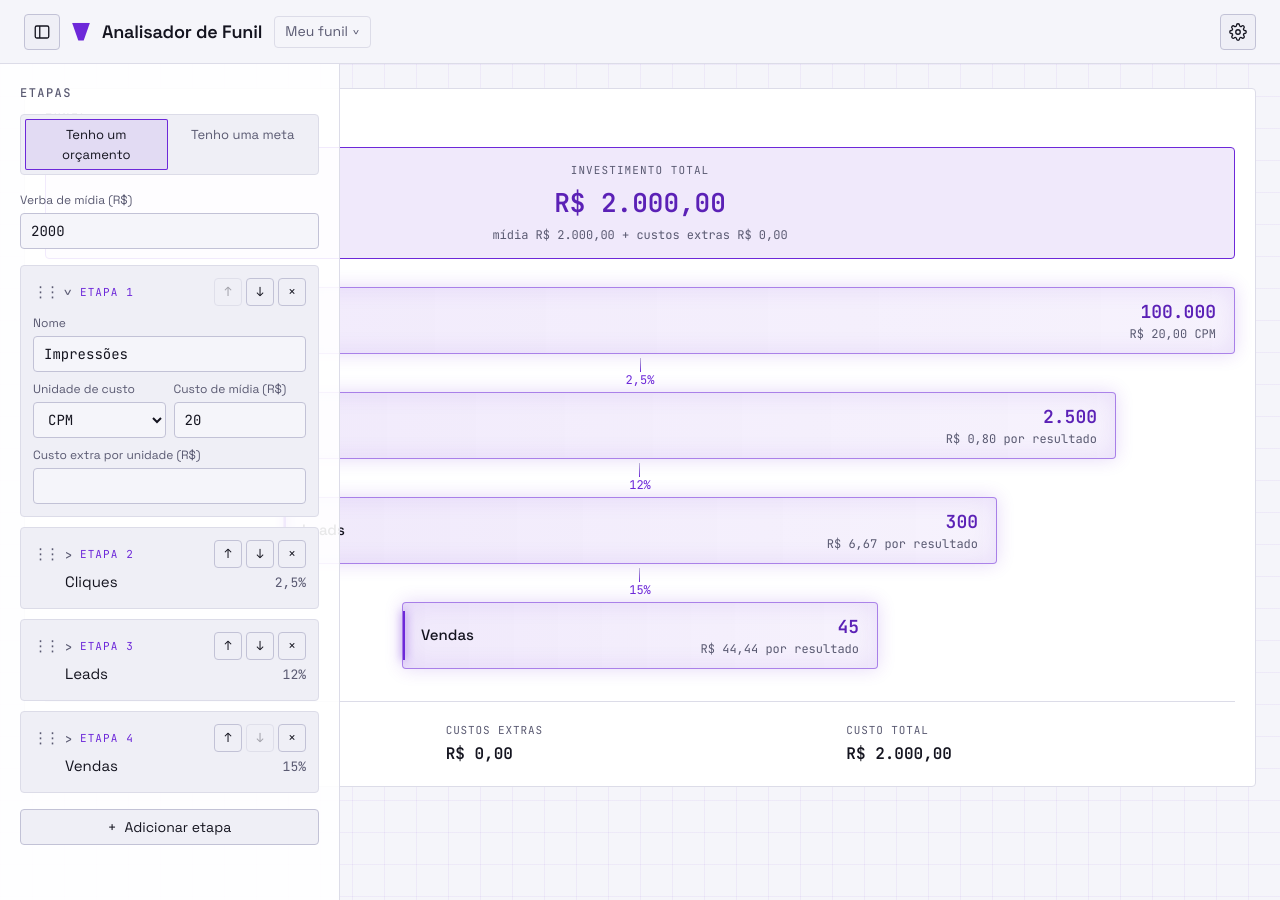
Test: abre no tema salvo
Click the button named "Configurações" at (1238, 32), box [1220, 14, 1256, 50]
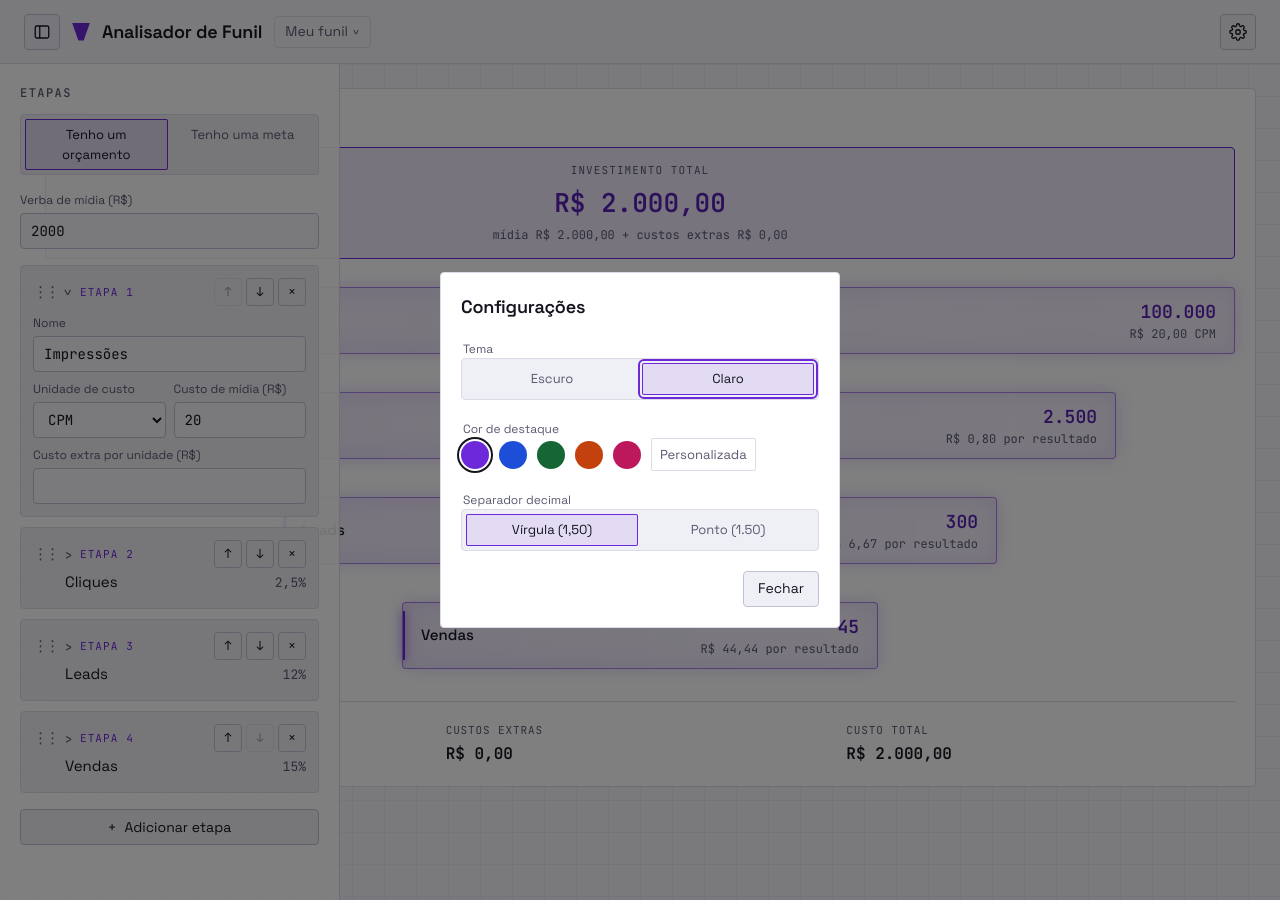
Expected: the 1st radio button labelled "Claro" is checked, [642, 363, 814, 395]
